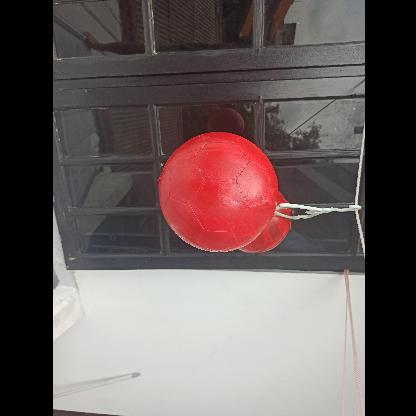red_ball: (160, 130, 282, 252)
